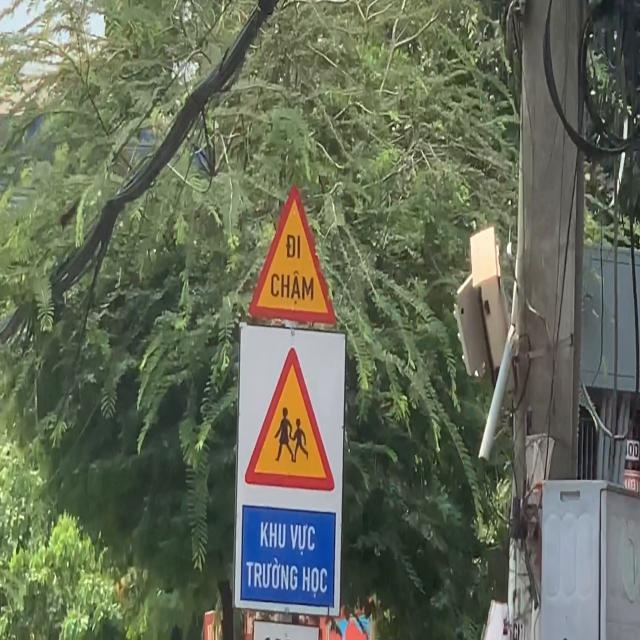bien_nguy_hiem: (244, 346, 336, 494), (247, 183, 336, 326)
